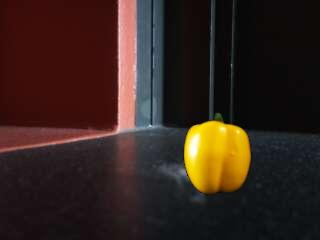Capsicum: (185, 113, 252, 195)
